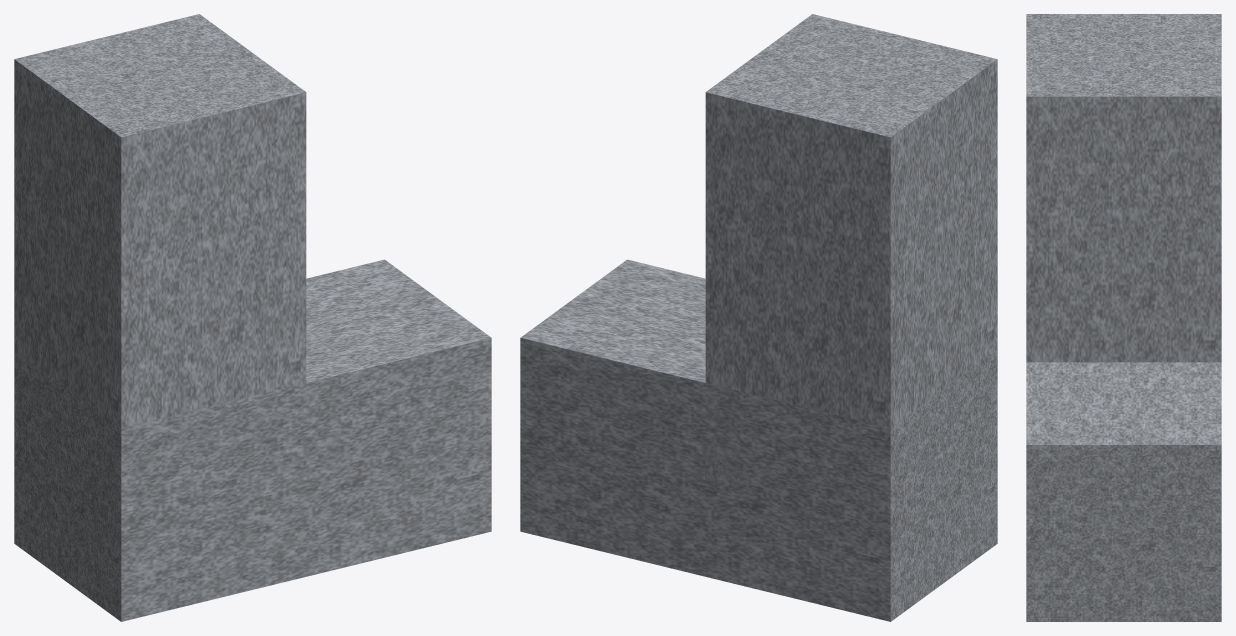
The model's file is bracket_small.obj.
3 views of the same model, side by side, from view 1: azimuth 30°, elevation 25°; view 2: azimuth 150°, elevation 25°; view 3: azimuth 270°, elevation 25° (orthographic). The views are drawn at different scales.
Bounding box in the file's own units: 0.08 × 0.1 × 0.04.
Materials: 1 (1 with a texture image).
